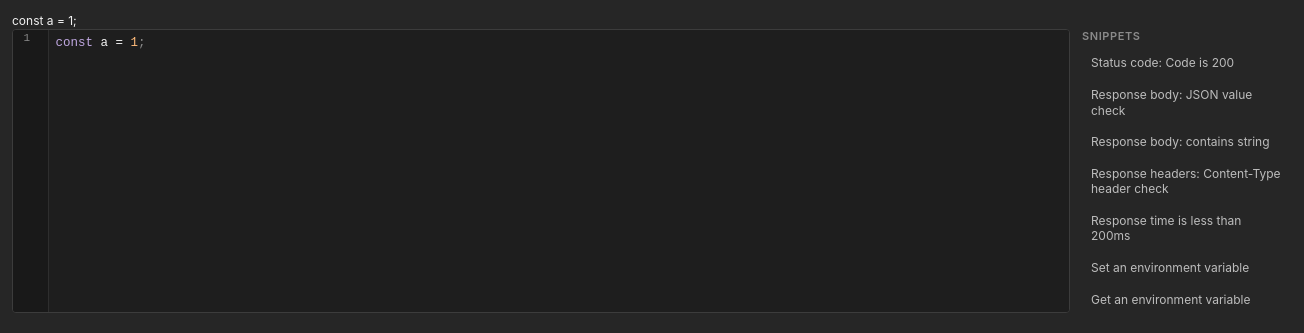
Test: ScriptEditor › keeps existing code intact when inserting a snippet
Click the button "Response time is less than 200ms".
click(1187, 228)  # box [1082, 207, 1292, 250]
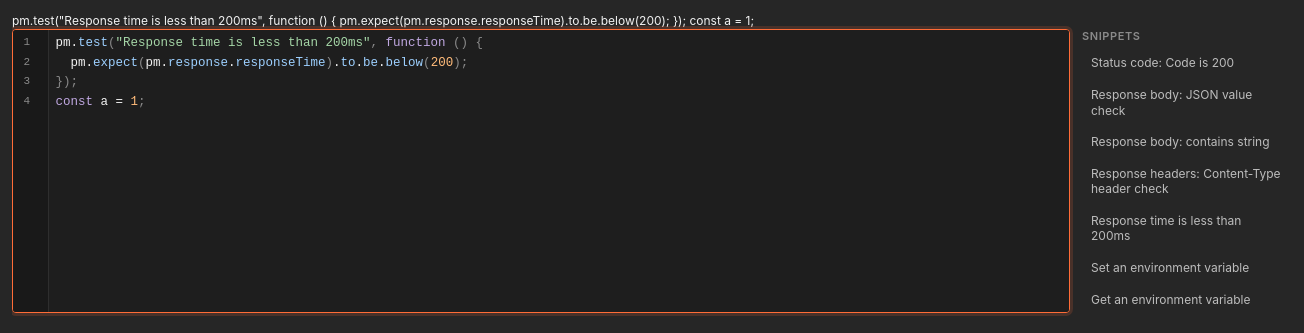
Expected: the text with test id "value" shows "const a = 1;", [12, 13, 754, 28]
Expected: the text with test id "value" shows "pm.expect(pm.response.responseTime)", [12, 13, 754, 28]
